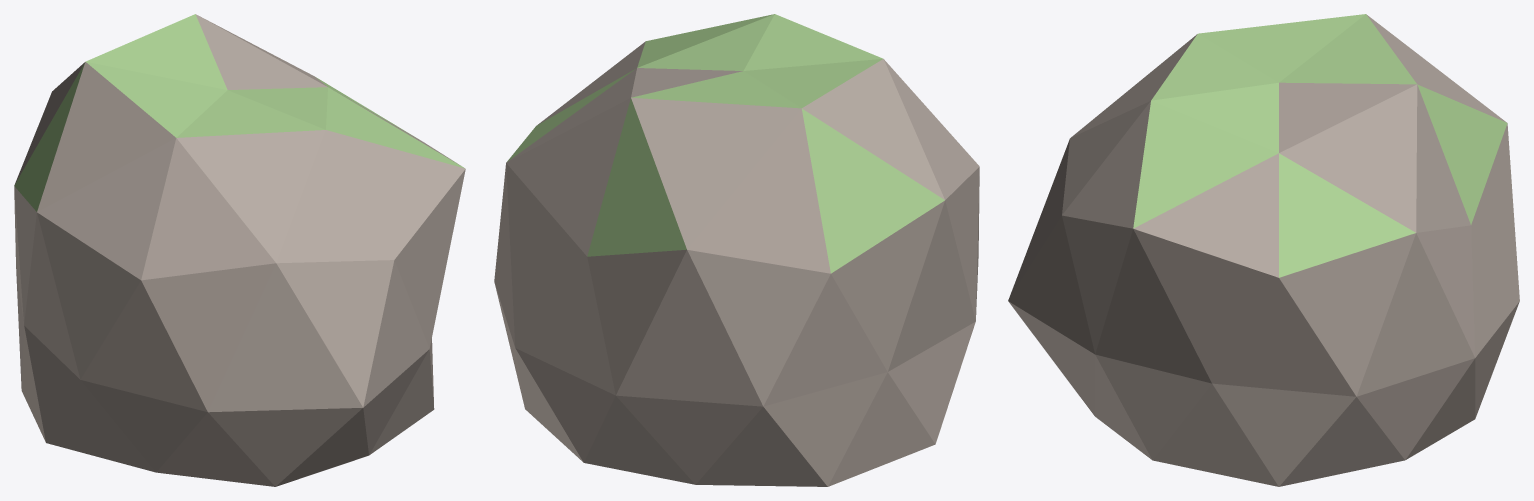
File: VCaveWall_B.fbx
3 views of the same model, side by side, from view 1: azimuth 30°, elevation 25°; view 2: azimuth 150°, elevation 25°; view 3: azimuth 270°, elevation 25° (orthographic). The views are drawn at different scales.
Visible parts, largest first — view 1: VCaveWall_B; view 2: VCaveWall_B; view 3: VCaveWall_B.
Part boxes in pixels (x1,y1,x2,y2): VCaveWall_B: (14, 14, 465, 486); VCaveWall_B: (494, 14, 979, 486); VCaveWall_B: (1008, 14, 1519, 486).
Size of the model in its own units: 1.8 by 1.57 by 2.06.
